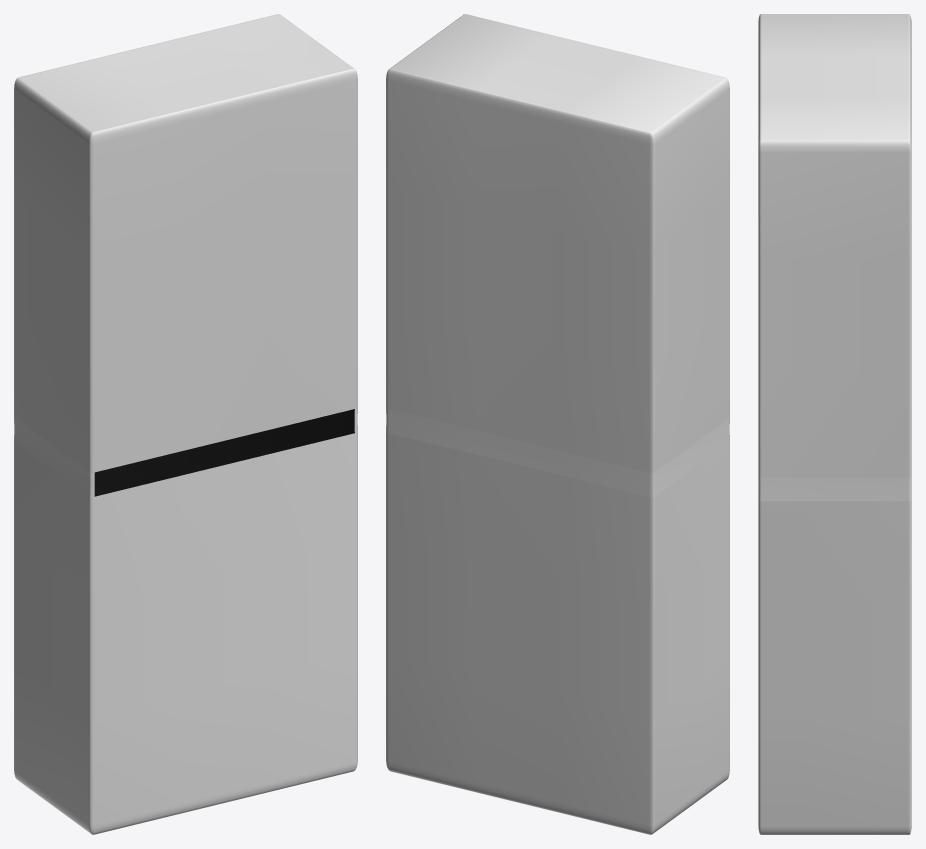
The model's file is SM_Domino_00.fbx.
3 views of the same model, side by side, from view 1: azimuth 30°, elevation 25°; view 2: azimuth 150°, elevation 25°; view 3: azimuth 270°, elevation 25° (orthographic).
Visible parts, largest first — view 1: SM_Domino_00; view 2: SM_Domino_00; view 3: SM_Domino_00.
Part boxes in pixels (x1,y1,x2,y2): SM_Domino_00: [14, 14, 357, 834]; SM_Domino_00: [386, 14, 729, 834]; SM_Domino_00: [758, 14, 911, 834].
Bounding box in the file's own units: 5.78 × 14.44 × 2.89.
1 material, 1 textured.
